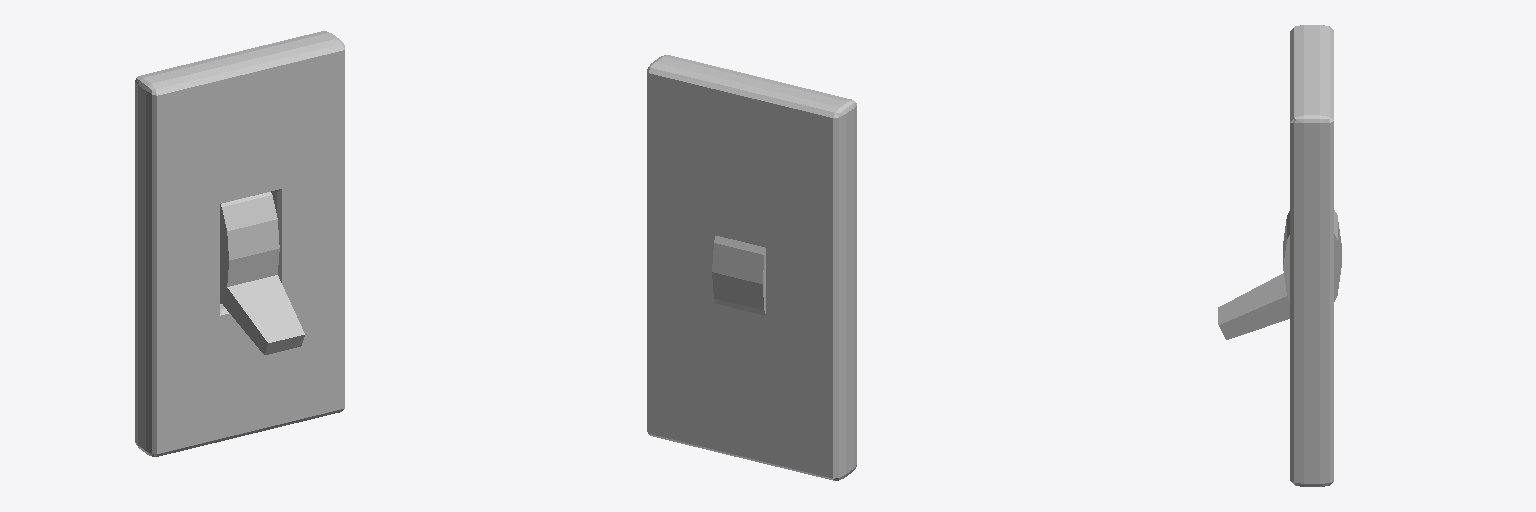
File: switchOff.obj
The picture shows the model from 3 angles: view 1: azimuth 30°, elevation 25°; view 2: azimuth 150°, elevation 25°; view 3: azimuth 270°, elevation 25°; orthographic projection.
Visible parts, largest first — view 1: SwitchOff_Material.050; view 2: SwitchOff_Material.050; view 3: SwitchOff_Material.050.
Part boxes in pixels (x1,y1,x2,y2): SwitchOff_Material.050: (135,31,344,456); SwitchOff_Material.050: (647,55,856,480); SwitchOff_Material.050: (1218,25,1341,486).
Bounding box in the file's own units: 0.8557 × 1.56 × 0.4666.